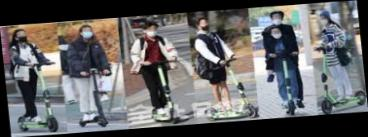helmet: (308, 7, 368, 113)
multiple: (258, 9, 310, 117)
nonhelmet: (189, 13, 260, 122), (2, 26, 64, 135), (126, 18, 187, 124), (66, 23, 119, 128)
